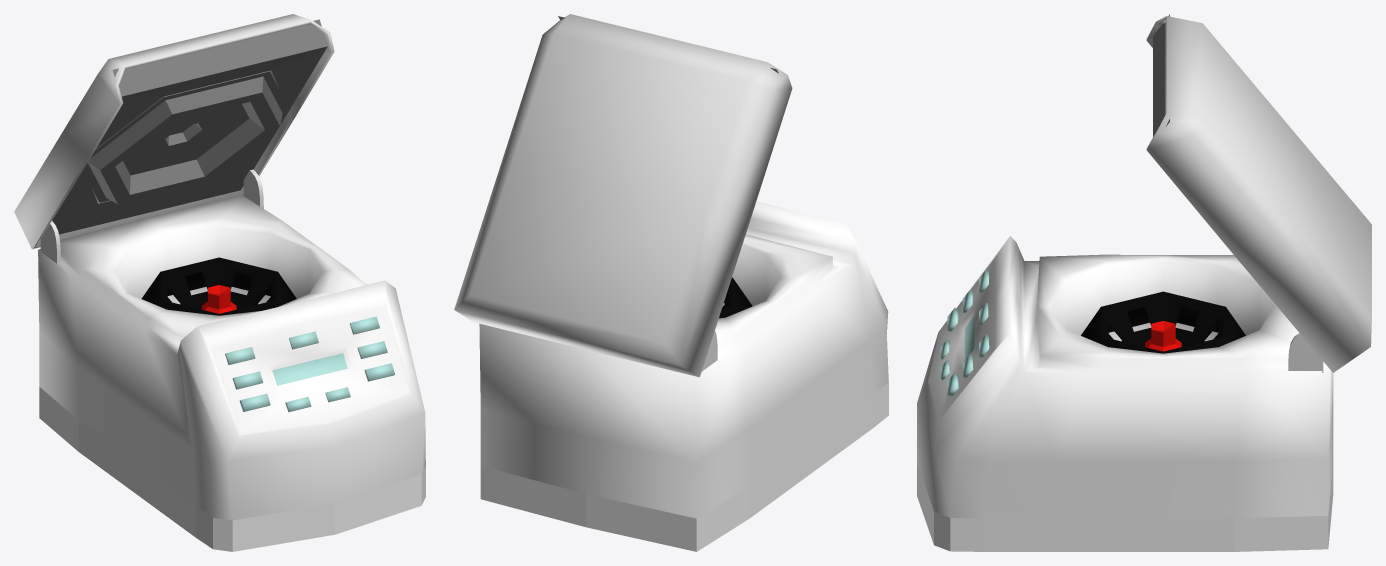
The model's file is centrifiga.fbx.
3 views of the same model, side by side, from view 1: azimuth 30°, elevation 25°; view 2: azimuth 150°, elevation 25°; view 3: azimuth 270°, elevation 25° (orthographic). The views are drawn at different scales.
Visible parts, largest first — view 1: Cube, Cube.007, Cube.002, Cube.001, Cube.004, Cube.008, Cube.017, Cube.016, Cube.005, Cube.020; view 2: Cube.001, Cube, Cube.002, Cube.004; view 3: Cube, Cube.001, Cube.002, Cube.004, Cube.007, Cube.008, Cube.005, Cube.016, Cube.017.
Boxes of the visible parts, bbox=[...] form: Cube: bbox=[38, 195, 425, 520]; Cube.007: bbox=[52, 19, 327, 234]; Cube.002: bbox=[39, 387, 425, 551]; Cube.001: bbox=[14, 14, 334, 249]; Cube.004: bbox=[141, 257, 296, 315]; Cube.008: bbox=[40, 169, 263, 263]; Cube.017: bbox=[225, 347, 270, 412]; Cube.016: bbox=[349, 316, 394, 381]; Cube.005: bbox=[202, 285, 236, 313]; Cube.020: bbox=[285, 387, 350, 412]; Cube.001: bbox=[454, 14, 792, 377]; Cube: bbox=[479, 201, 888, 518]; Cube.002: bbox=[480, 382, 888, 551]; Cube.004: bbox=[719, 277, 752, 318]; Cube: bbox=[917, 236, 1333, 518]; Cube.001: bbox=[1146, 16, 1371, 372]; Cube.002: bbox=[917, 463, 1333, 551]; Cube.004: bbox=[1081, 291, 1245, 353]; Cube.007: bbox=[1153, 14, 1236, 246]; Cube.008: bbox=[1288, 333, 1323, 372]; Cube.005: bbox=[1145, 321, 1181, 351]; Cube.016: bbox=[947, 334, 989, 397]; Cube.017: bbox=[947, 269, 989, 332].
Bounding box in the file's own units: 36.22 × 65.29 × 62.33.
